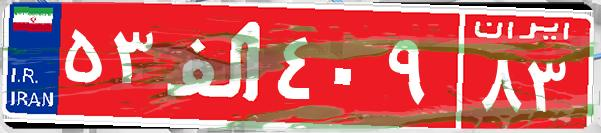0: (330, 28, 385, 110)
3: (110, 28, 158, 105), (525, 38, 570, 115)
4: (273, 28, 330, 110)
5: (57, 26, 110, 107)
8: (475, 38, 525, 113)
9: (385, 28, 445, 110)
الف: (158, 15, 273, 115)
